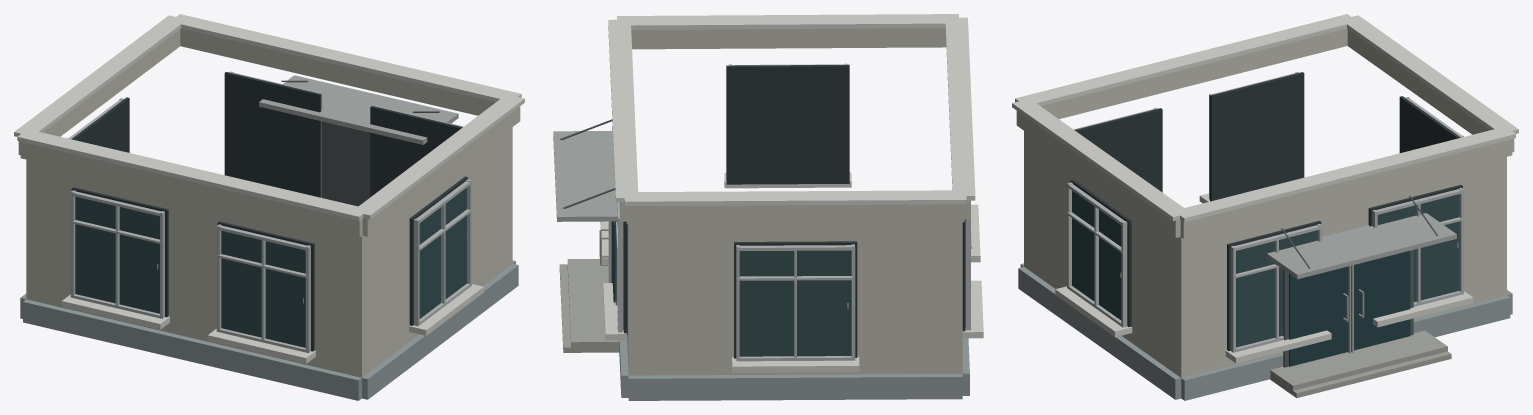
File: osm_way_225109136.glb
3 renders of one model, left to right at view 1: azimuth 30°, elevation 25°; view 2: azimuth 150°, elevation 25°; view 3: azimuth 270°, elevation 25°, orthographic. The views are drawn at different scales.
Parts seen in each view (by area): view 1: Architecture | 门卫, Windows and facade details | 门卫, Roof services | 门卫, EXTERIOR::osm_way_225109136::inferred entry doors canopy and; view 2: Architecture | 门卫, Windows and facade details | 门卫, Roof services | 门卫, EXTERIOR::osm_way_225109136::inferred entry doors canopy and; view 3: Architecture | 门卫, Windows and facade details | 门卫, EXTERIOR::osm_way_225109136::inferred entry doors canopy and, Roof services | 门卫.
Boxes of the visible parts, x1,y1,x2,y2 form: Architecture | 门卫: [18, 28, 520, 400]; Windows and facade details | 门卫: [61, 71, 483, 363]; Roof services | 门卫: [14, 14, 524, 220]; EXTERIOR::osm_way_225109136::inferred entry doors canopy and: [259, 75, 458, 206]; Architecture | 门卫: [619, 28, 970, 400]; Windows and facade details | 门卫: [600, 63, 983, 372]; Roof services | 门卫: [608, 14, 975, 205]; EXTERIOR::osm_way_225109136::inferred entry doors canopy and: [553, 119, 619, 352]; Architecture | 门卫: [1016, 28, 1514, 400]; Windows and facade details | 门卫: [1055, 71, 1473, 363]; EXTERIOR::osm_way_225109136::inferred entry doors canopy and: [1267, 195, 1456, 397]; Roof services | 门卫: [1012, 14, 1518, 222].
Size of the model in its own units: 10.72 by 4.54 by 11.24.
